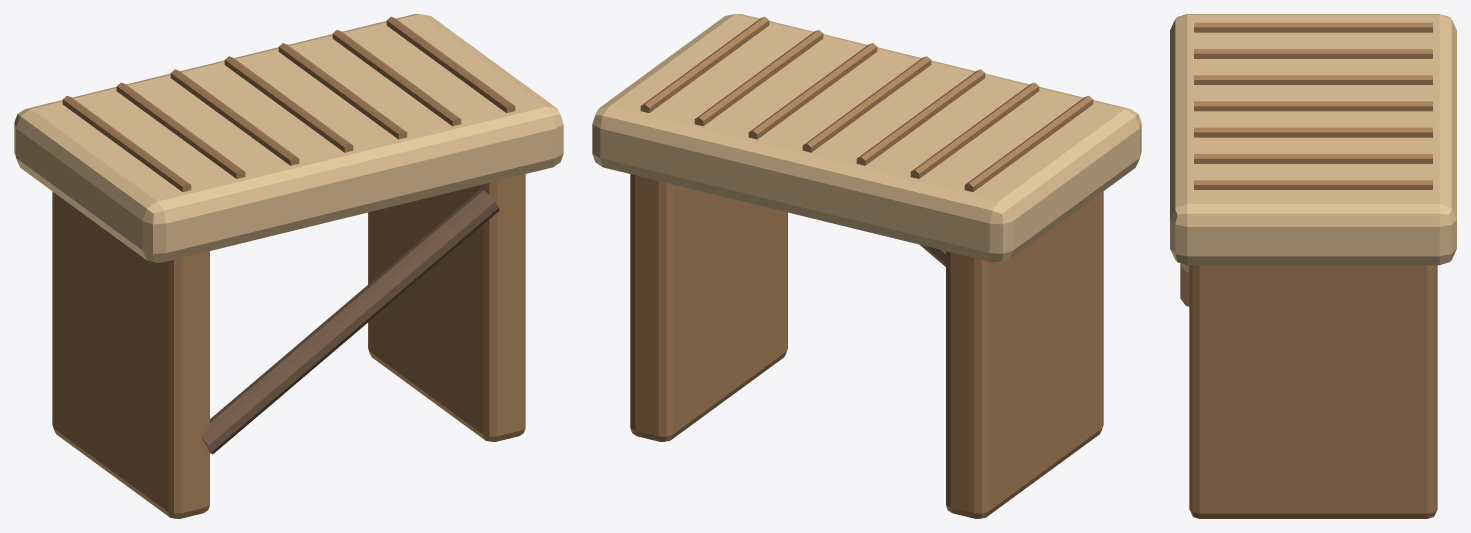
The model's file is woodwork_fumikiri.glb.
3 views of the same model, side by side, from view 1: azimuth 30°, elevation 25°; view 2: azimuth 150°, elevation 25°; view 3: azimuth 270°, elevation 25° (orthographic).
Parts seen in each view (by area): view 1: Fumikiri top wooden stepping platform, Tapered legs, Tapered legs.001, Diagonal hardwood brace, Anti-slip carved top ridges.005, Anti-slip carved top ridges.001, Anti-slip carved top ridges.002, Anti-slip carved top ridges.003, Anti-slip carved top ridges.006, Anti-slip carved top ridges, Anti-slip carved top ridges.004; view 2: Fumikiri top wooden stepping platform, Tapered legs, Tapered legs.001, Anti-slip carved top ridges.005, Anti-slip carved top ridges.001, Anti-slip carved top ridges.002, Anti-slip carved top ridges.003, Anti-slip carved top ridges.006, Anti-slip carved top ridges, Anti-slip carved top ridges.004; view 3: Tapered legs.001, Fumikiri top wooden stepping platform, Anti-slip carved top ridges, Anti-slip carved top ridges.003, Anti-slip carved top ridges.004, Anti-slip carved top ridges.001, Anti-slip carved top ridges.002, Anti-slip carved top ridges.005, Anti-slip carved top ridges.006, Diagonal hardwood brace.
Boxes of the visible parts, box(x1,y1,x2,y2) form: Fumikiri top wooden stepping platform: box(14, 14, 563, 262); Tapered legs: box(52, 191, 209, 518); Tapered legs.001: box(368, 174, 525, 441); Diagonal hardwood brace: box(200, 189, 499, 454); Anti-slip carved top ridges.005: box(332, 30, 461, 126); Anti-slip carved top ridges.001: box(116, 82, 245, 178); Anti-slip carved top ridges.002: box(170, 69, 299, 165); Anti-slip carved top ridges.003: box(224, 56, 353, 152); Anti-slip carved top ridges.006: box(386, 16, 515, 113); Anti-slip carved top ridges: box(62, 95, 191, 191); Anti-slip carved top ridges.004: box(278, 43, 407, 139); Fumikiri top wooden stepping platform: box(592, 14, 1141, 262); Tapered legs: box(946, 191, 1103, 518); Tapered legs.001: box(630, 174, 787, 441); Anti-slip carved top ridges.005: box(694, 30, 823, 126); Anti-slip carved top ridges.001: box(910, 82, 1039, 178); Anti-slip carved top ridges.002: box(856, 69, 985, 165); Anti-slip carved top ridges.003: box(802, 56, 931, 152); Anti-slip carved top ridges.006: box(640, 16, 769, 113); Anti-slip carved top ridges: box(964, 95, 1093, 191); Anti-slip carved top ridges.004: box(748, 43, 877, 139); Tapered legs.001: box(1189, 265, 1437, 518); Fumikiri top wooden stepping platform: box(1170, 14, 1456, 265); Anti-slip carved top ridges: box(1194, 22, 1432, 32); Anti-slip carved top ridges.003: box(1194, 101, 1432, 111); Anti-slip carved top ridges.004: box(1194, 127, 1432, 137); Anti-slip carved top ridges.001: box(1194, 49, 1432, 58); Anti-slip carved top ridges.002: box(1194, 75, 1432, 84); Anti-slip carved top ridges.005: box(1194, 154, 1432, 163); Anti-slip carved top ridges.006: box(1194, 180, 1432, 189); Diagonal hardwood brace: box(1180, 263, 1189, 306).
Bounding box in the file's own units: 1.95 × 1.49 × 1.16.
